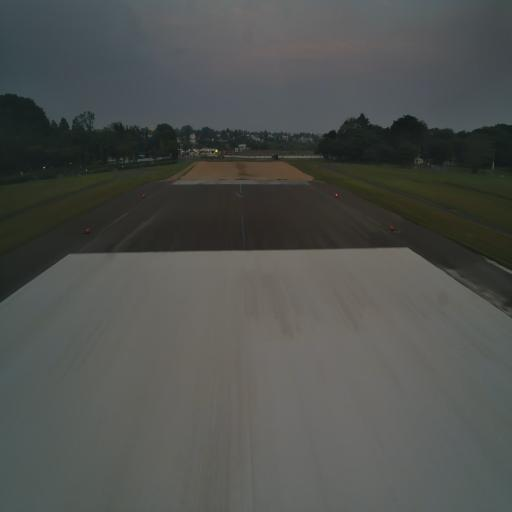on: (390, 220, 396, 234), (84, 227, 92, 236)
